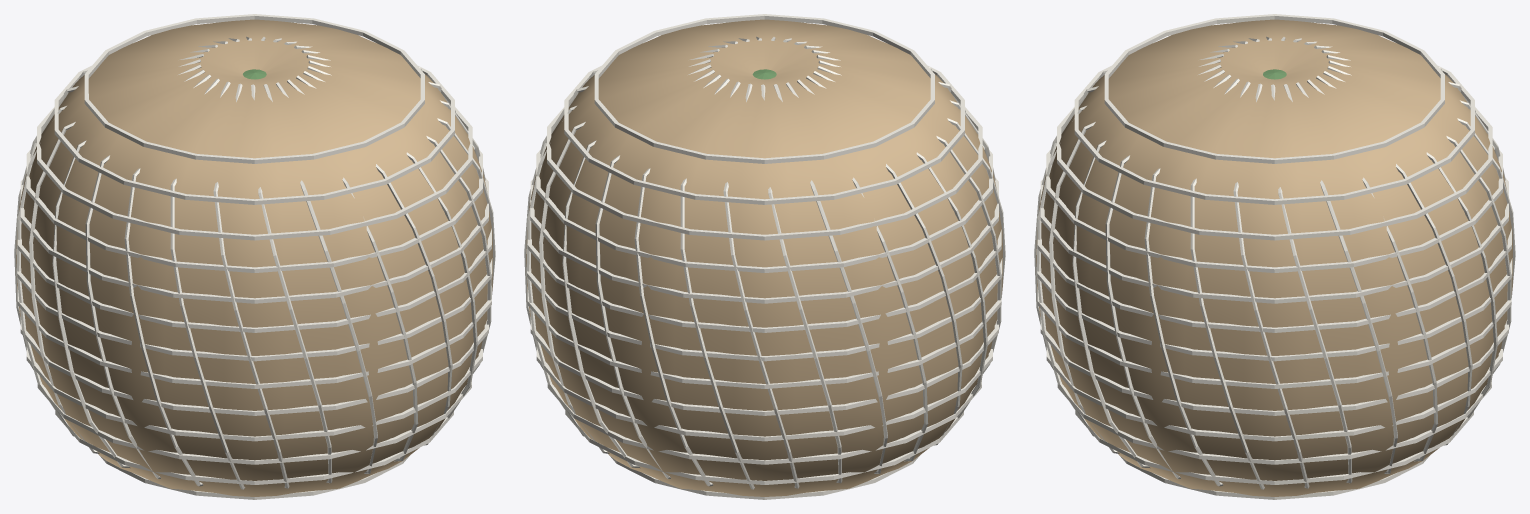
File: fresh-produce-and-groceries-cantaloupe-melon-61a0f0a2__24345.glb
The picture shows the model from 3 angles, left to right: view 1: azimuth 30°, elevation 25°; view 2: azimuth 150°, elevation 25°; view 3: azimuth 270°, elevation 25°; orthographic projection.
Visible parts, largest first — view 1: cantaloupe-melon; view 2: cantaloupe-melon; view 3: cantaloupe-melon.
Part boxes in pixels (x1,y1,x2,y2): cantaloupe-melon: (14, 14, 495, 499); cantaloupe-melon: (524, 14, 1005, 499); cantaloupe-melon: (1034, 14, 1515, 499).
Bounding box in the file's own units: 0.1781 × 0.1614 × 0.1777.
